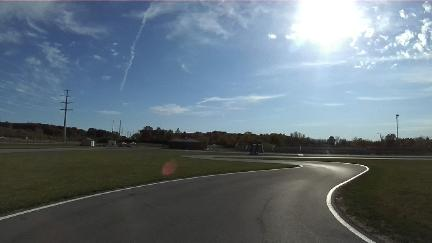Grass: (2, 150, 295, 213), (234, 158, 431, 242), (0, 145, 78, 149), (271, 158, 290, 160), (261, 158, 270, 158)
Lane: (0, 155, 364, 242), (56, 149, 59, 150), (67, 149, 70, 150), (0, 150, 1, 152), (14, 150, 18, 150)
